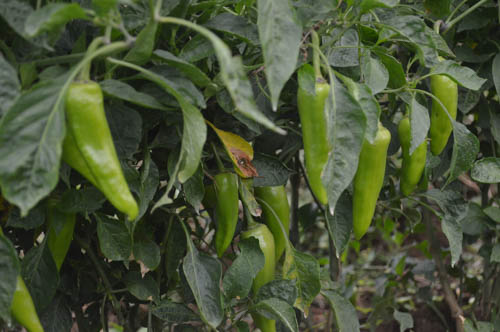ChiliPepper: (70, 83, 140, 219), (298, 84, 331, 209), (352, 129, 382, 238), (248, 228, 273, 331), (432, 61, 459, 155), (210, 174, 239, 255), (257, 179, 287, 254), (400, 118, 428, 196), (63, 137, 99, 192)
